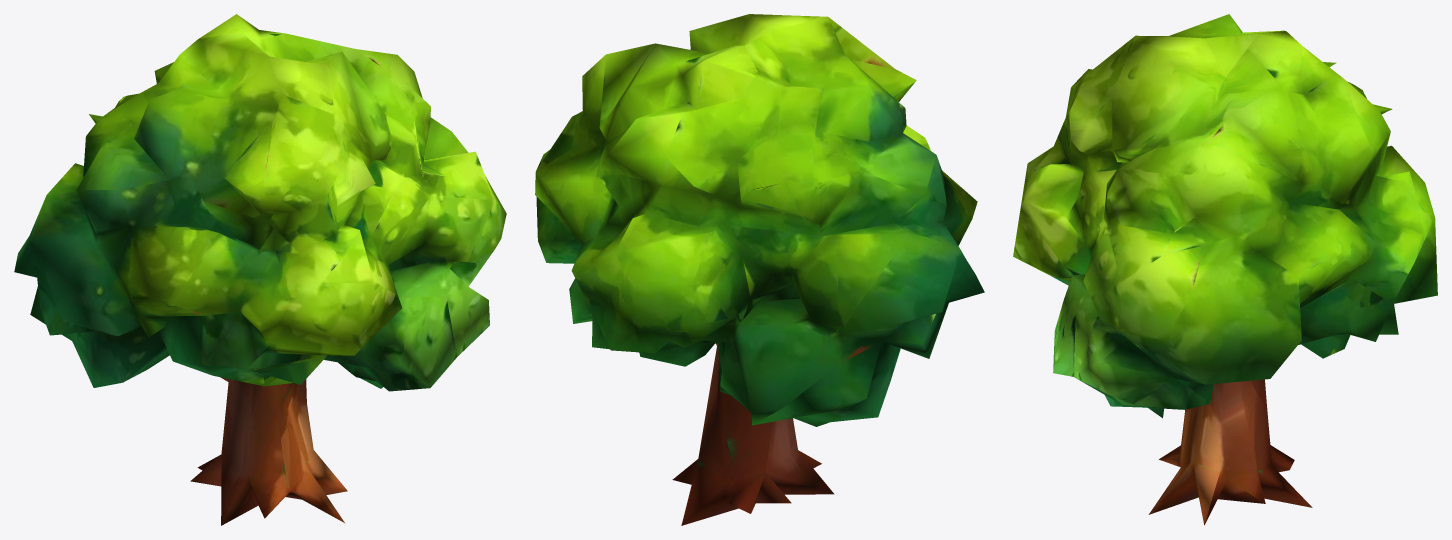
Rendered from tree_oak.glb.
3 renders of one model, left to right at view 1: azimuth 30°, elevation 25°; view 2: azimuth 150°, elevation 25°; view 3: azimuth 270°, elevation 25°, orthographic. The views are drawn at different scales.
Parts seen in each view (by area): view 1: tripo_node_75ed794a-e21d-443e-9c58-f1dfb1849396; view 2: tripo_node_75ed794a-e21d-443e-9c58-f1dfb1849396; view 3: tripo_node_75ed794a-e21d-443e-9c58-f1dfb1849396.
Boxes of the visible parts, box(x1,y1,x2,y2) form: tripo_node_75ed794a-e21d-443e-9c58-f1dfb1849396: box(14, 14, 506, 525); tripo_node_75ed794a-e21d-443e-9c58-f1dfb1849396: box(535, 14, 984, 525); tripo_node_75ed794a-e21d-443e-9c58-f1dfb1849396: box(1013, 14, 1437, 525).
Bounding box in the file's own units: 0.9583 × 0.9859 × 0.83.
Materials: 1 (1 with a texture image).
